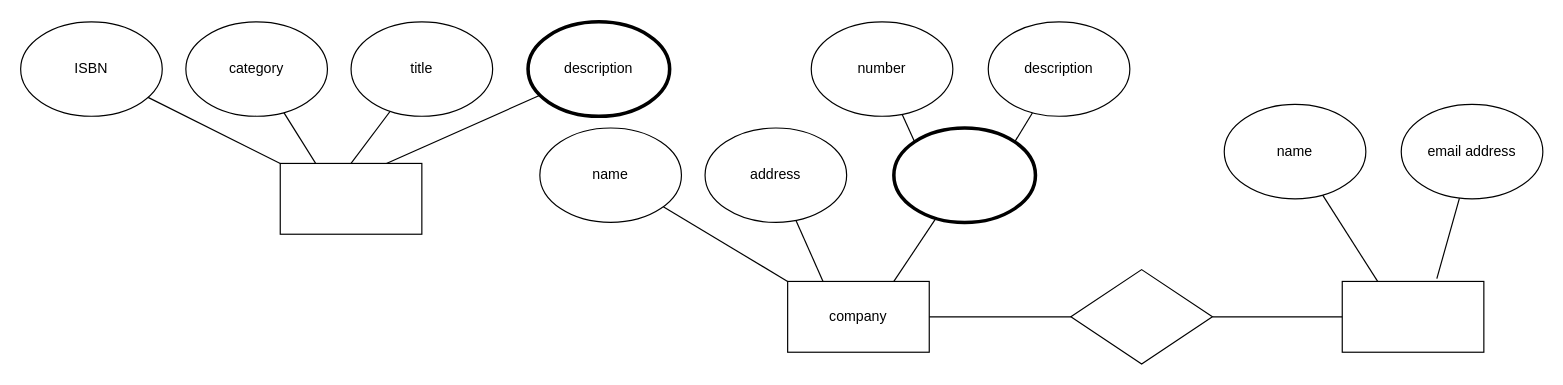
Image size: 1563x385. Some labels were removed from this diagram. Each missing label, with the centre of its shape:
"contact" belongs at (1141,316).
"person" belongs at (1412,316).
"phone number" belongs at (964,175).
"textbook" belongs at (350,198).
